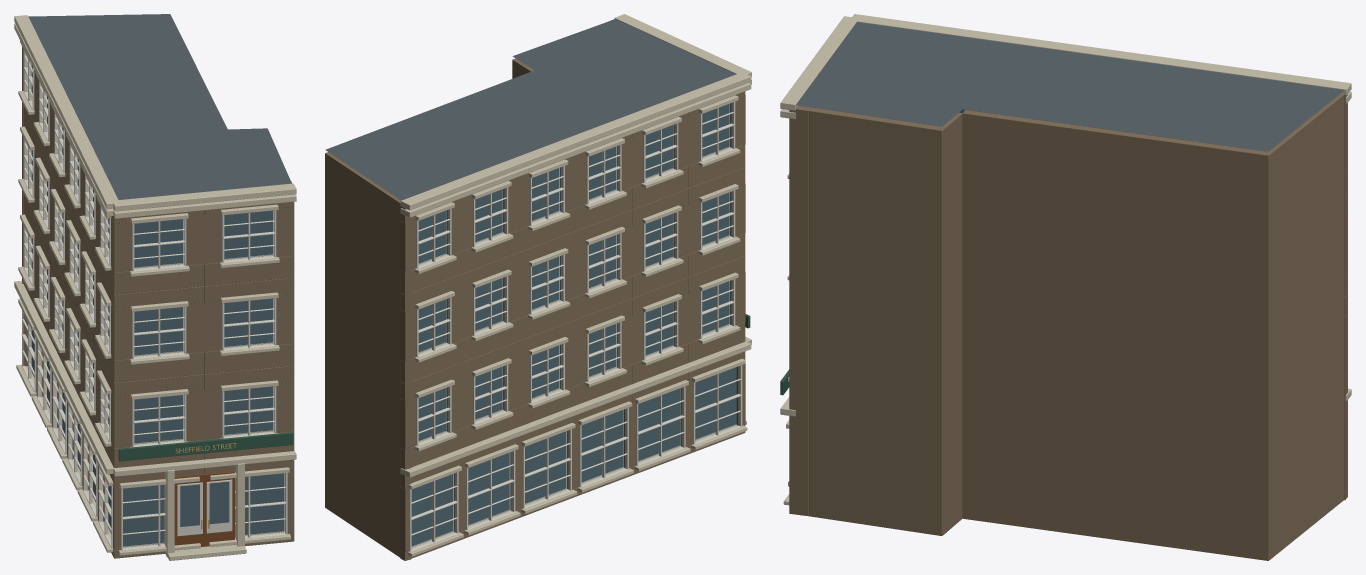
Rendered from shf-exterior-6b9471c54c49.glb.
3 renders of one model, left to right at view 1: azimuth 30°, elevation 25°; view 2: azimuth 150°, elevation 25°; view 3: azimuth 270°, elevation 25°, orthographic. The views are drawn at different scales.
Parts seen in each view (by area): view 1: SHF.001; view 2: SHF.001; view 3: SHF.001.
Part boxes in pixels (bbox=[...]): SHF.001: bbox=[14, 14, 296, 560]; SHF.001: bbox=[325, 14, 751, 560]; SHF.001: bbox=[780, 14, 1351, 560].
Size of the model in its own units: 9.41 by 13.15 by 16.59.
